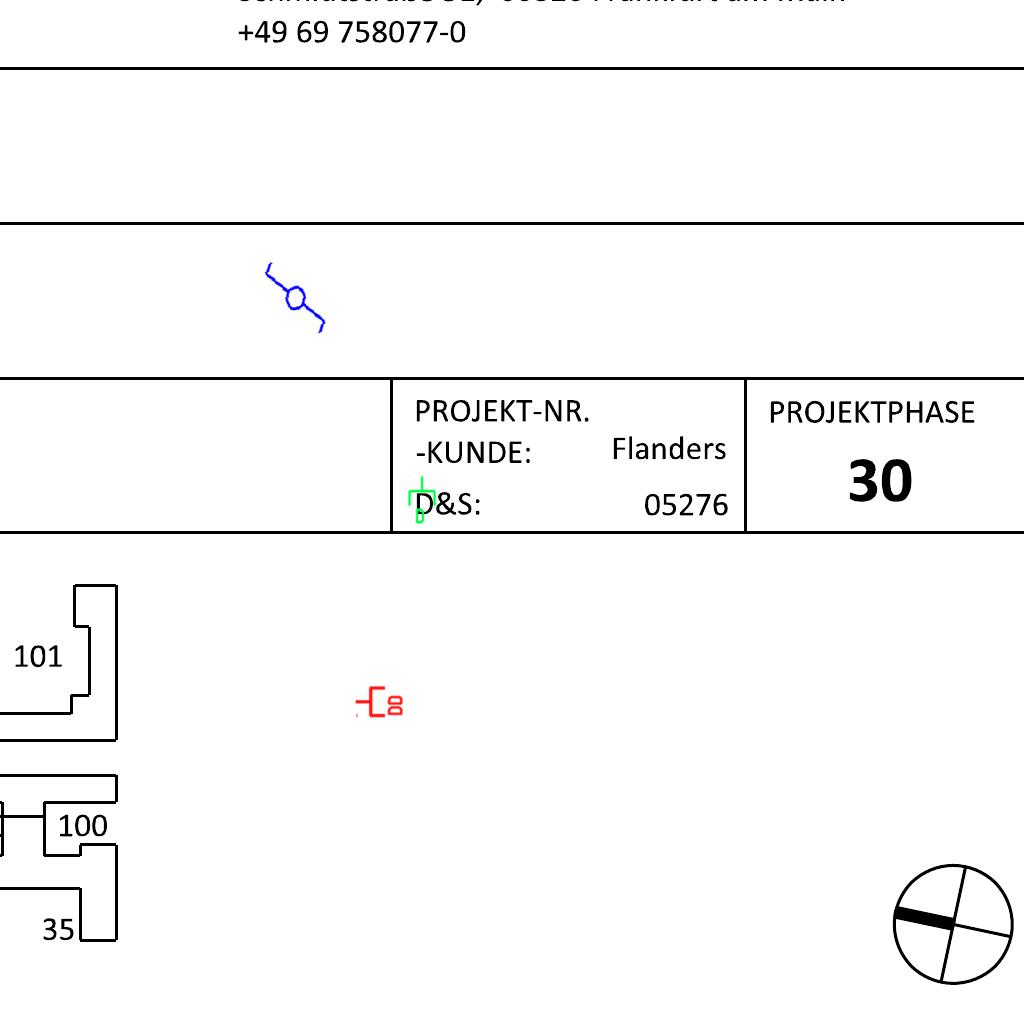Datenanschluss_einfach: (406, 475, 440, 525)
Datenanschluss_zweifach: (354, 684, 405, 718)
Wechselschalter: (253, 258, 335, 346)
